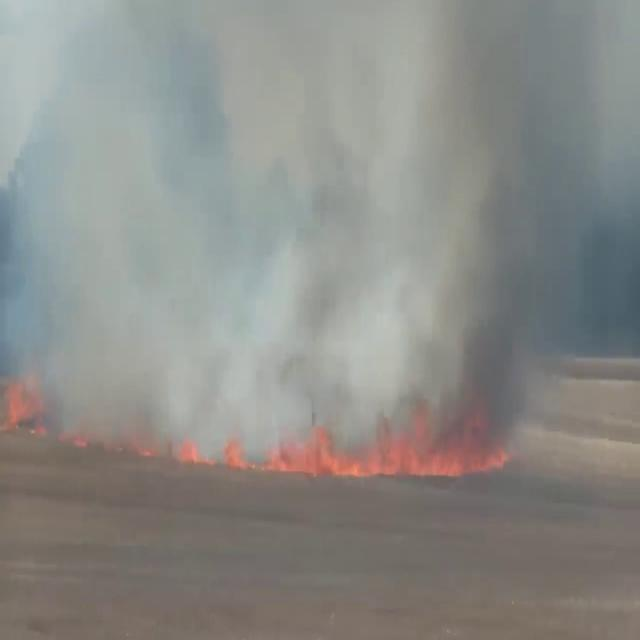Fire: (183, 417, 506, 487), (0, 364, 48, 437)
Smoke: (1, 1, 639, 480)
